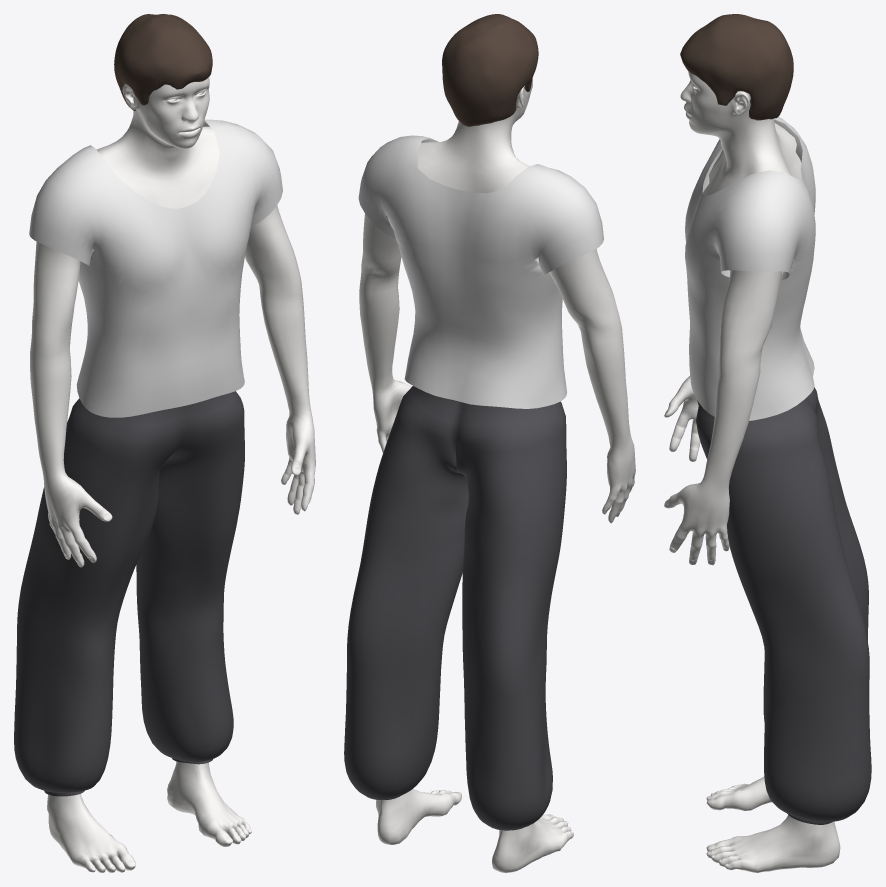
File: mannequin-male-relaxed.glb
3 renders of one model, left to right at view 1: azimuth 30°, elevation 25°; view 2: azimuth 150°, elevation 25°; view 3: azimuth 270°, elevation 25°, orthographic. The views are drawn at different scales.
Visible parts, largest first — view 1: Pants, Shirt, Body, HairSculpt; view 2: Pants, Shirt, Body, HairSculpt; view 3: Pants, Body, Shirt, HairSculpt.
Boxes of the visible parts, box(x1,y1,x2,y2) form: Pants: box(14, 391, 244, 796); Shirt: box(29, 119, 282, 417); Body: box(30, 76, 315, 872); HairSculpt: box(114, 14, 212, 110); Pants: box(344, 386, 566, 830); Shirt: box(358, 135, 603, 408); Body: box(359, 78, 635, 872); HairSculpt: box(442, 14, 538, 126); Pants: box(696, 387, 871, 824); Body: box(664, 71, 840, 872); Shirt: box(685, 117, 815, 420); HairSculpt: box(680, 14, 793, 120).
Bounding box in the file's own units: 0.6391 × 1.9 × 0.4372.
